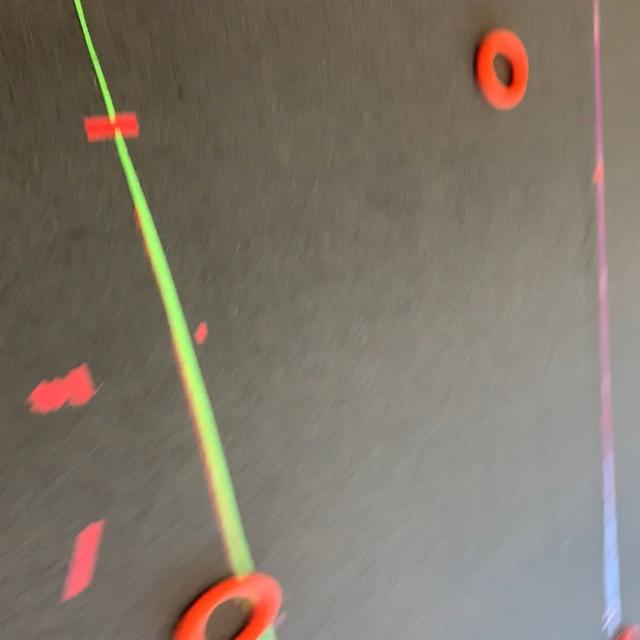notes: (171, 574, 282, 640), (476, 28, 531, 110)
